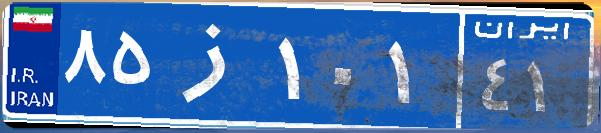0: (330, 28, 385, 110)
1: (385, 28, 445, 110), (273, 28, 330, 110), (525, 38, 570, 115)
4: (475, 38, 525, 113)
5: (110, 28, 158, 105)
8: (57, 26, 110, 107)
ز: (158, 15, 273, 115)
